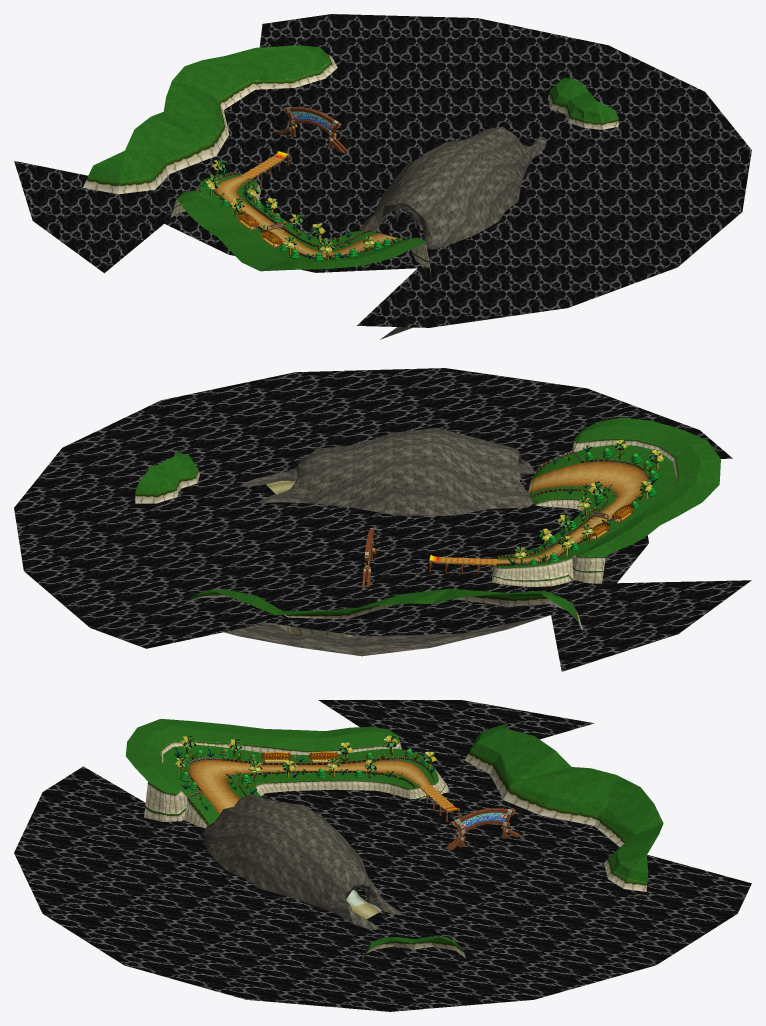
3 views of the same model, one above another, from view 1: azimuth 30°, elevation 25°; view 2: azimuth 150°, elevation 25°; view 3: azimuth 270°, elevation 25° (orthographic). The views are drawn at different scales.
Visible parts, largest first — view 1: Gctr_MarineRoad_perm.003, Gctr_MarineRoad_perm.001, Gctr_MarineRoad, Gctr_MarineRoad_perm.004, Gctr_MarineRoad.008, Gctr_MarineRoad_perm, Gctr_MarineRoad.007, Gctr_MarineRoad.005, Gctr_MarineRoad.010, Gctr_MarineRoad.001, Gctr_MarineRoad.011; view 2: Gctr_MarineRoad_perm.003, Gctr_MarineRoad, Gctr_MarineRoad.008, Gctr_MarineRoad_perm.004, Gctr_MarineRoad_perm.001, Gctr_MarineRoad.007, Gctr_MarineRoad.009, Gctr_MarineRoad_perm, Gctr_MarineRoad.001, Gctr_MarineRoad.010, Gctr_MarineRoad.005, Gctr_MarineRoad.011; view 3: Gctr_MarineRoad_perm.003, Gctr_MarineRoad, Gctr_MarineRoad_perm.001, Gctr_MarineRoad.008, Gctr_MarineRoad_perm.004, Gctr_MarineRoad.009, Gctr_MarineRoad.007, Gctr_MarineRoad_perm, Gctr_MarineRoad.001, Gctr_MarineRoad.005, Gctr_MarineRoad.010, Gctr_MarineRoad.011 (+1 smaller).
Part boxes in pixels (bbox=[...]): Gctr_MarineRoad_perm.003: bbox=[14, 14, 751, 327]; Gctr_MarineRoad_perm.001: bbox=[88, 45, 618, 181]; Gctr_MarineRoad: bbox=[359, 126, 546, 249]; Gctr_MarineRoad_perm.004: bbox=[237, 123, 557, 268]; Gctr_MarineRoad.008: bbox=[176, 173, 425, 271]; Gctr_MarineRoad_perm: bbox=[83, 53, 618, 194]; Gctr_MarineRoad.007: bbox=[214, 111, 402, 257]; Gctr_MarineRoad.005: bbox=[237, 107, 347, 247]; Gctr_MarineRoad.010: bbox=[205, 159, 374, 260]; Gctr_MarineRoad.001: bbox=[205, 106, 541, 259]; Gctr_MarineRoad.011: bbox=[201, 175, 390, 260]; Gctr_MarineRoad_perm.003: bbox=[14, 368, 751, 671]; Gctr_MarineRoad: bbox=[224, 428, 549, 656]; Gctr_MarineRoad.008: bbox=[496, 417, 720, 567]; Gctr_MarineRoad_perm.004: bbox=[214, 452, 560, 590]; Gctr_MarineRoad_perm.001: bbox=[135, 451, 576, 619]; Gctr_MarineRoad.007: bbox=[370, 461, 648, 563]; Gctr_MarineRoad.009: bbox=[491, 438, 678, 586]; Gctr_MarineRoad_perm: bbox=[135, 469, 582, 637]; Gctr_MarineRoad.001: bbox=[178, 445, 657, 565]; Gctr_MarineRoad.010: bbox=[514, 439, 663, 565]; Gctr_MarineRoad.005: bbox=[362, 507, 633, 586]; Gctr_MarineRoad.011: bbox=[530, 448, 658, 565]; Gctr_MarineRoad_perm.003: bbox=[14, 700, 751, 1011]; Gctr_MarineRoad: bbox=[201, 794, 401, 929]; Gctr_MarineRoad_perm.001: bbox=[364, 723, 663, 955]; Gctr_MarineRoad.008: bbox=[125, 719, 438, 824]; Gctr_MarineRoad_perm.004: bbox=[158, 800, 503, 937]; Gctr_MarineRoad.009: bbox=[144, 740, 448, 828]; Gctr_MarineRoad.007: bbox=[188, 759, 507, 829]; Gctr_MarineRoad_perm: bbox=[362, 727, 647, 961]; Gctr_MarineRoad.001: bbox=[174, 747, 452, 935]; Gctr_MarineRoad.005: bbox=[263, 755, 521, 905]; Gctr_MarineRoad.010: bbox=[175, 735, 437, 781]; Gctr_MarineRoad.011: bbox=[179, 748, 427, 790].
Bounding box in the file's own units: 12262 × 2102 × 12262.
Materials: 16 (16 with a texture image).
